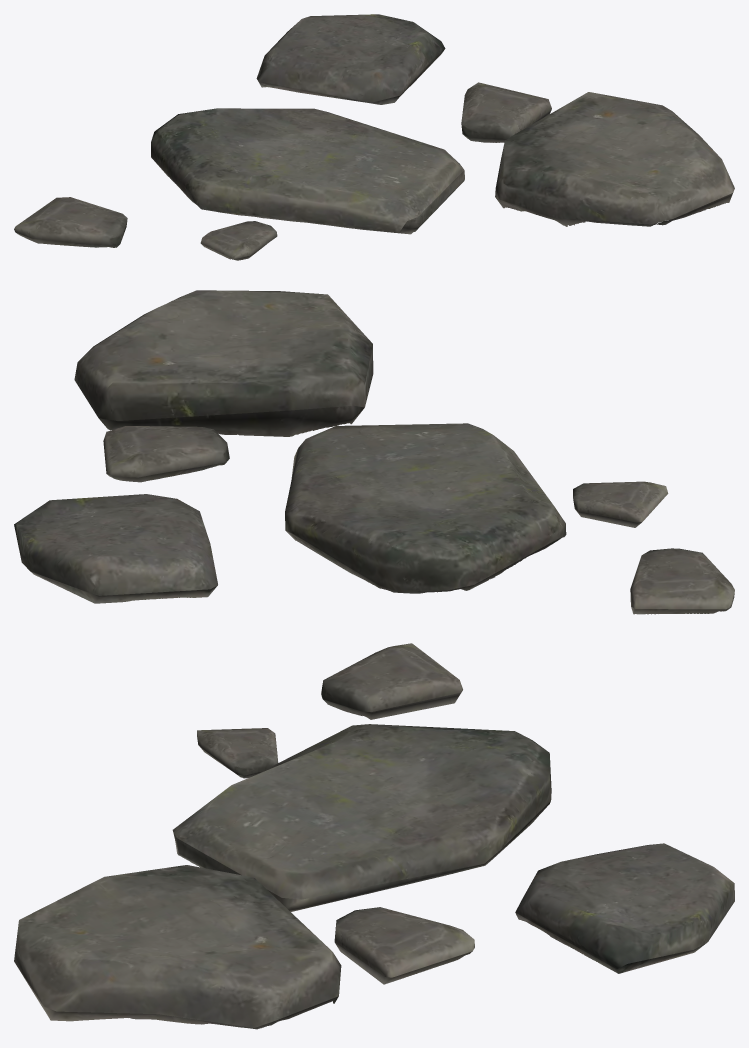
3 views of the same model, one above another, from view 1: azimuth 30°, elevation 25°; view 2: azimuth 150°, elevation 25°; view 3: azimuth 270°, elevation 25° (orthographic). The views are drawn at different scales.
Visible parts, largest first — view 1: SM_DeathTemple_Cobble_Road_03v1_LOD0; view 2: SM_DeathTemple_Cobble_Road_03v1_LOD0; view 3: SM_DeathTemple_Cobble_Road_03v1_LOD0.
Boxes of the visible parts, <box> form: SM_DeathTemple_Cobble_Road_03v1_LOD0: <box>14,14,734,260</box>; SM_DeathTemple_Cobble_Road_03v1_LOD0: <box>14,290,734,614</box>; SM_DeathTemple_Cobble_Road_03v1_LOD0: <box>14,643,734,1029</box>.
Bounding box in the file's own units: 1.6 × 0.123 × 1.29.
Materials: 1 (1 with a texture image).
